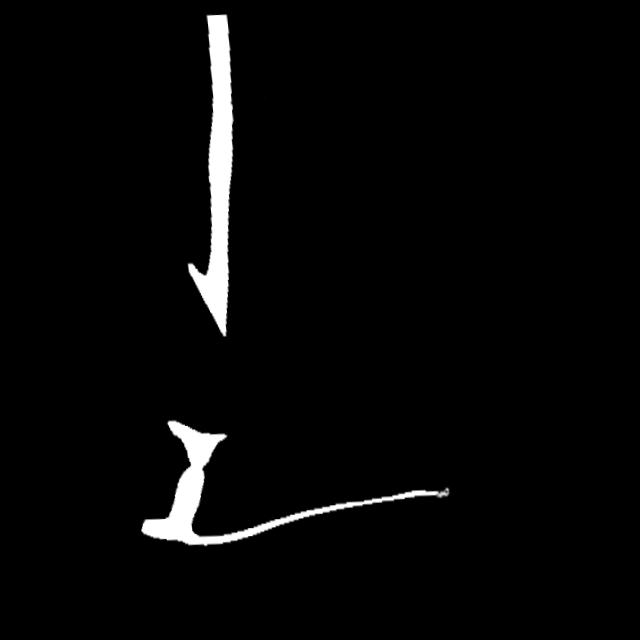stp: (428, 480, 448, 501)
